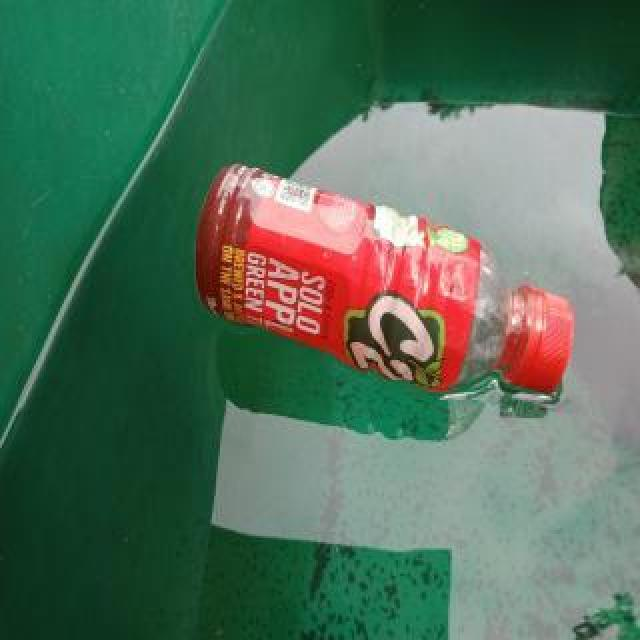bottle: (193, 161, 575, 395)
